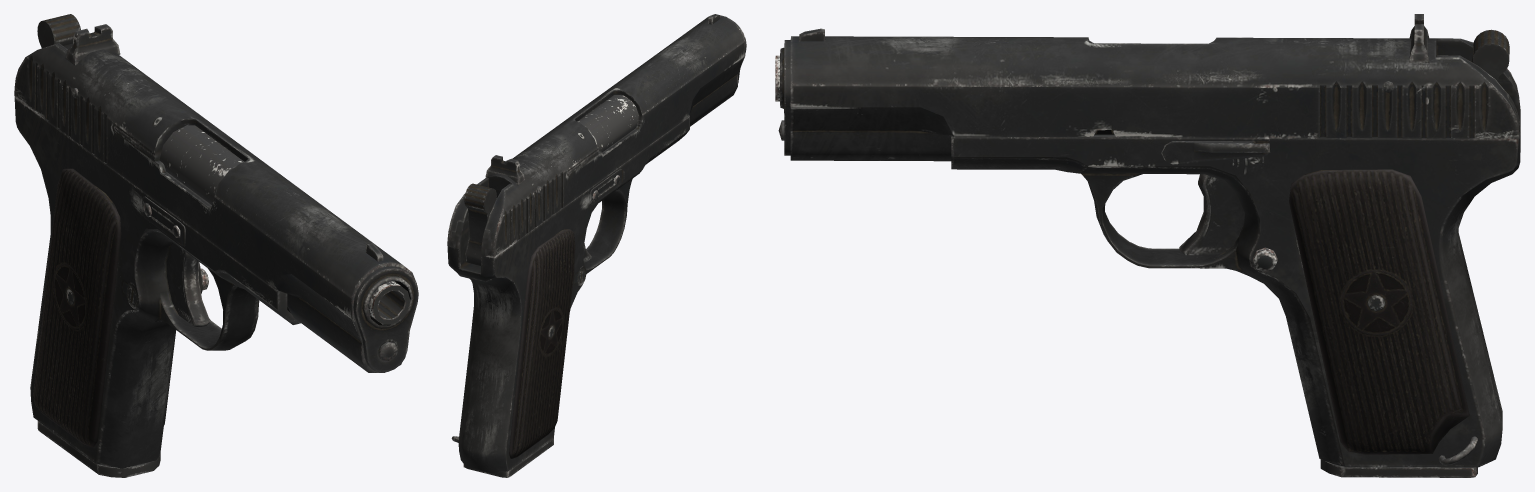
3 renders of one model, left to right at view 1: azimuth 30°, elevation 25°; view 2: azimuth 150°, elevation 25°; view 3: azimuth 270°, elevation 25°, orthographic. The views are drawn at different scales.
Visible parts, largest first — view 1: pistol; view 2: pistol; view 3: pistol.
Boxes of the visible parts, x1,y1,x2,y2 form: pistol: [14, 14, 418, 477]; pistol: [447, 14, 746, 477]; pistol: [775, 14, 1520, 477].
Bounding box in the file's own units: 0.2555 × 1.07 × 1.59.
Materials: 1 (1 with a texture image).
